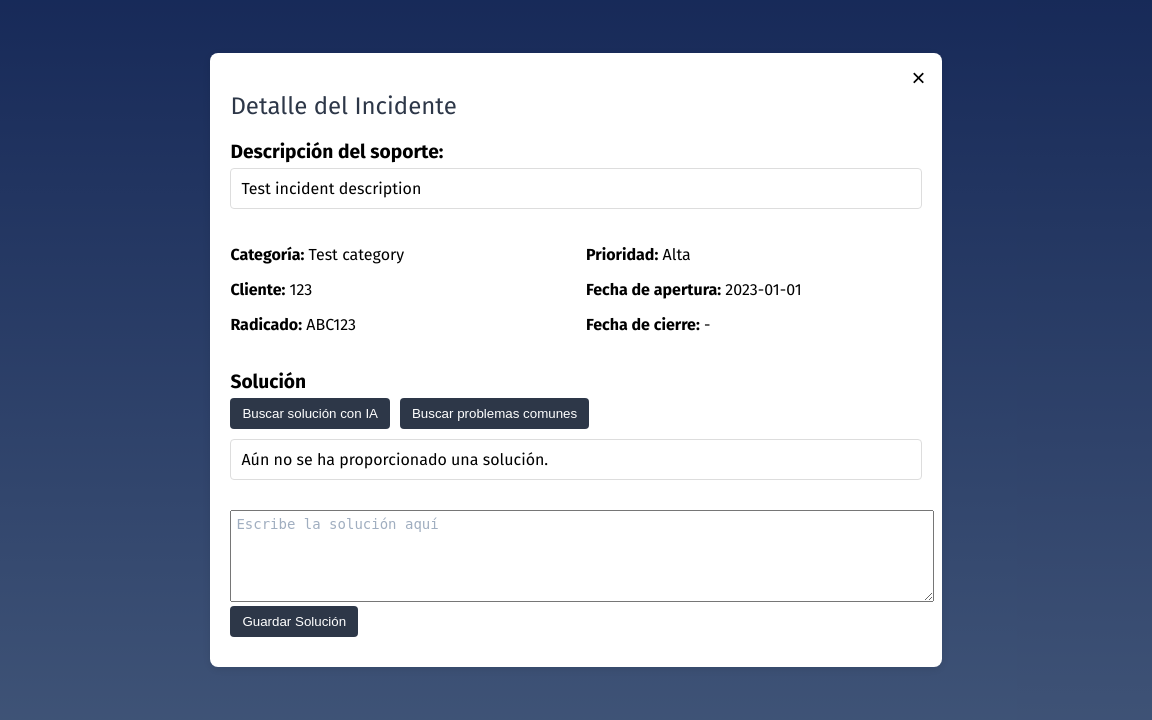
Test: DetailIncidentModal › fetches and displays common issues when "Buscar problemas comunes" is clicked
Click the button "Buscar problemas comunes": (495, 414) [400, 398, 589, 430]
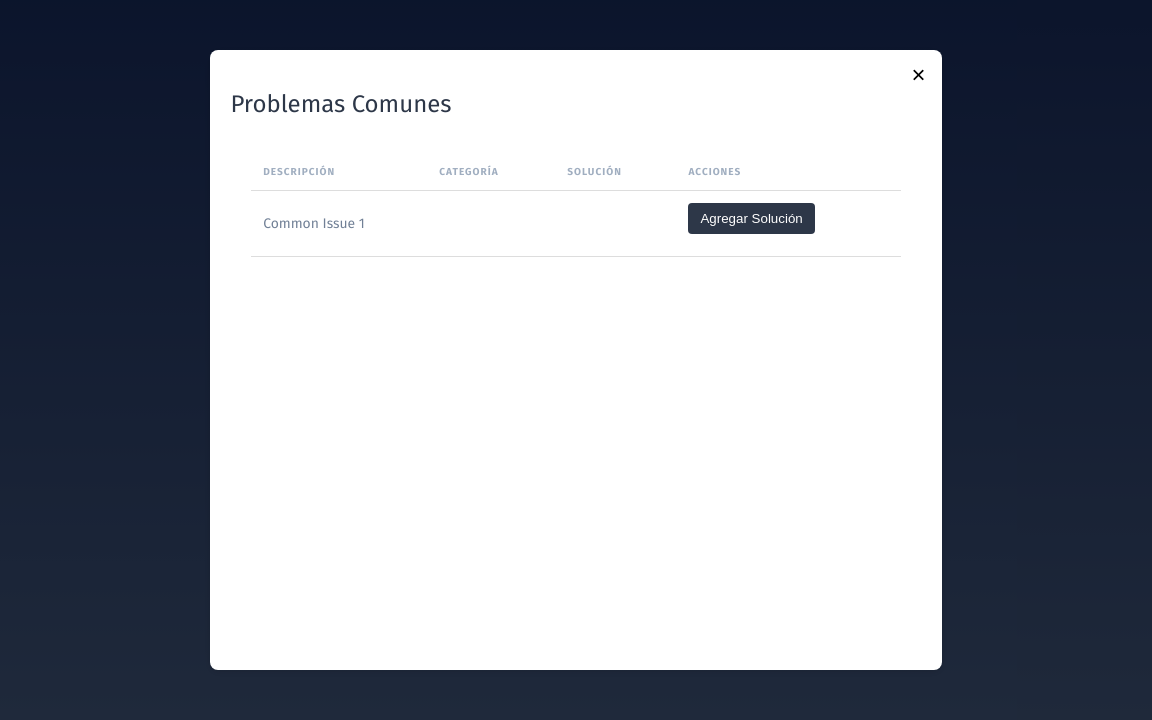
Expected: the text "Common Issue 1" is shown, [251, 191, 427, 257]
